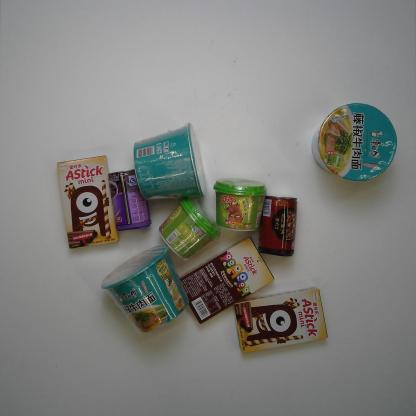Canned Food: (106, 169, 153, 232), (256, 195, 299, 257)
Dessert: (175, 235, 276, 325), (233, 284, 329, 354), (56, 154, 120, 250)
Instant Drink: (156, 194, 222, 262), (212, 176, 268, 232)
Instant Noodles: (100, 244, 190, 334), (310, 102, 398, 184), (133, 122, 207, 202)
